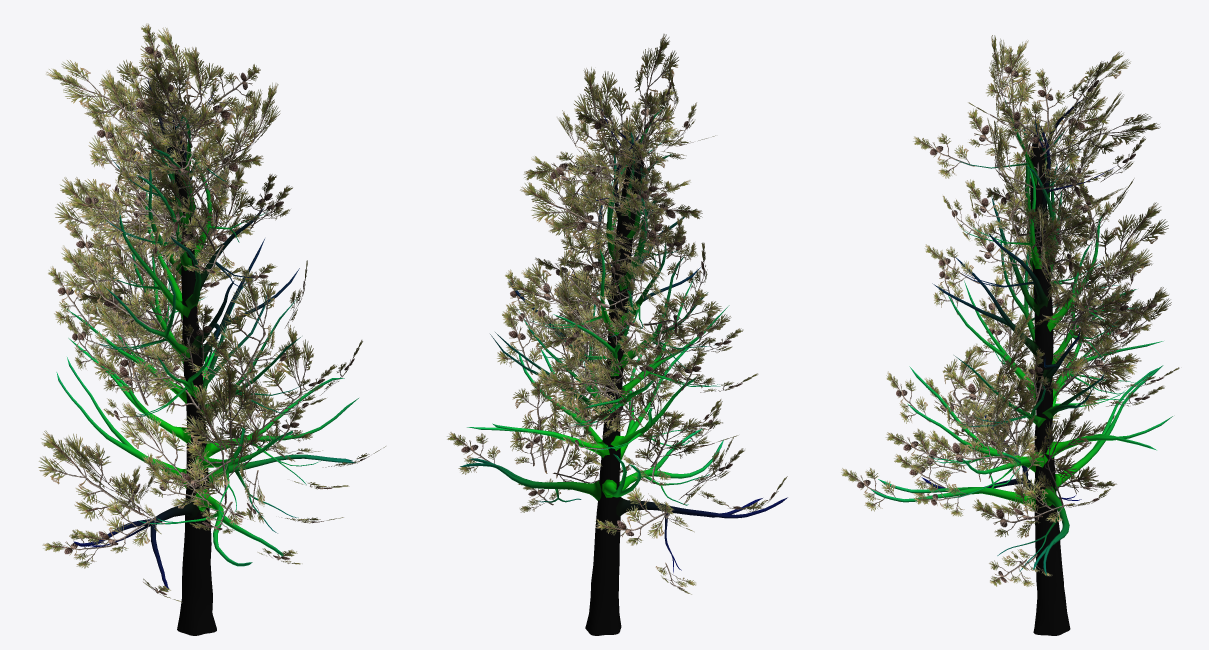
The model's file is Pine_Tree.fbx.
3 renders of one model, left to right at view 1: azimuth 30°, elevation 25°; view 2: azimuth 150°, elevation 25°; view 3: azimuth 270°, elevation 25°, orthographic. The views are drawn at different scales.
Visible parts, largest first — view 1: Pine_Tree_Leaf3, Pine_Tree_Leaf2, Pine_Tree_Bark; view 2: Pine_Tree_Leaf2, Pine_Tree_Leaf3, Pine_Tree_Bark; view 3: Pine_Tree_Leaf2, Pine_Tree_Leaf3, Pine_Tree_Bark.
Boxes of the visible parts, x1,y1,x2,y2 form: Pine_Tree_Leaf3: (38,27,313,521); Pine_Tree_Leaf2: (42,23,385,602); Pine_Tree_Bark: (56,78,358,635); Pine_Tree_Leaf2: (447,62,787,594); Pine_Tree_Leaf3: (508,34,734,532); Pine_Tree_Bark: (460,105,787,635); Pine_Tree_Leaf2: (841,46,1179,586); Pine_Tree_Leaf3: (942,35,1171,510); Pine_Tree_Bark: (871,98,1172,635).
Size of the model in its own units: 951 by 1612 by 913.
